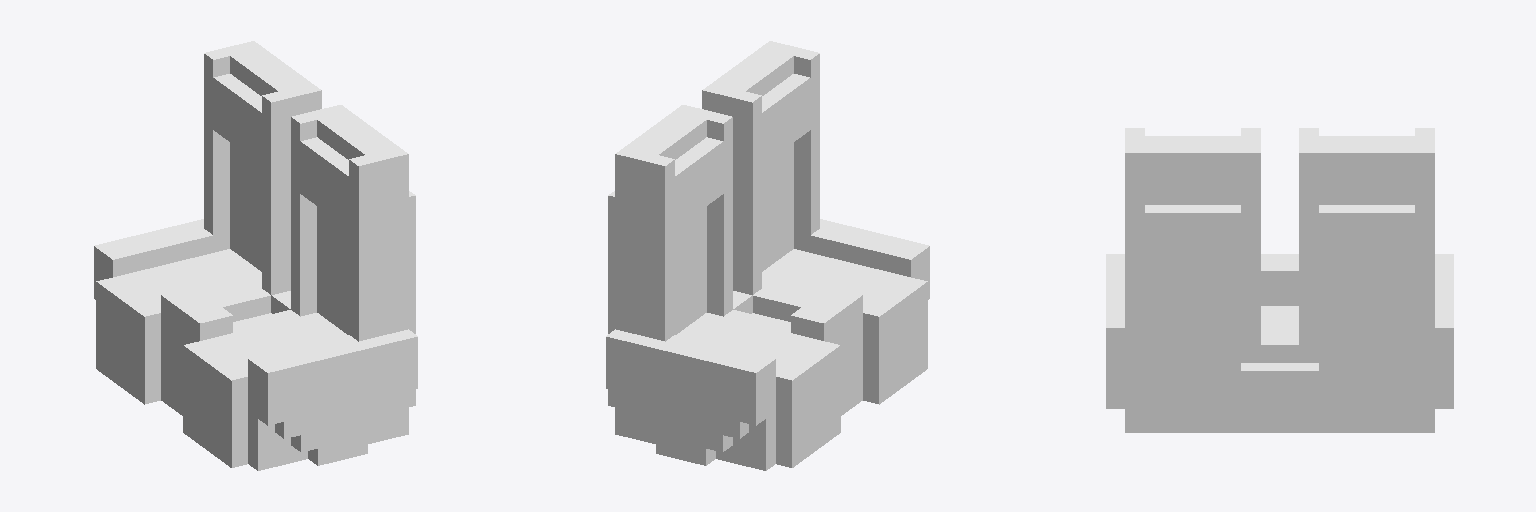
File: Gchair.obj
3 views of the same model, side by side, from view 1: azimuth 30°, elevation 25°; view 2: azimuth 150°, elevation 25°; view 3: azimuth 270°, elevation 25° (orthographic).
Parts seen in each view (by area): view 1: object 1; view 2: object 1; view 3: object 1.
Boxes of the visible parts, x1=… form: object 1: x1=94, y1=41, x2=417, y2=470; object 1: x1=606, y1=41, x2=929, y2=470; object 1: x1=1106, y1=128, x2=1453, y2=432.
Size of the model in its own units: 1.1 by 1.6 by 1.8.